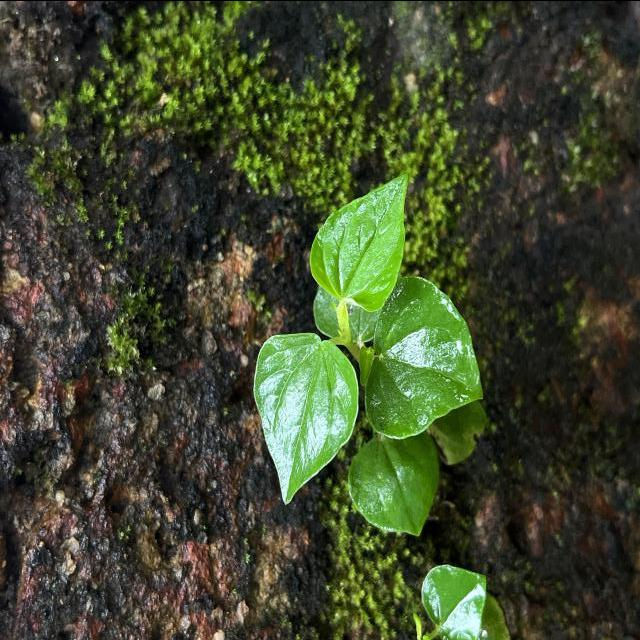Peperomia pellucida: (362, 274, 484, 441), (252, 330, 360, 505), (308, 169, 410, 312)
